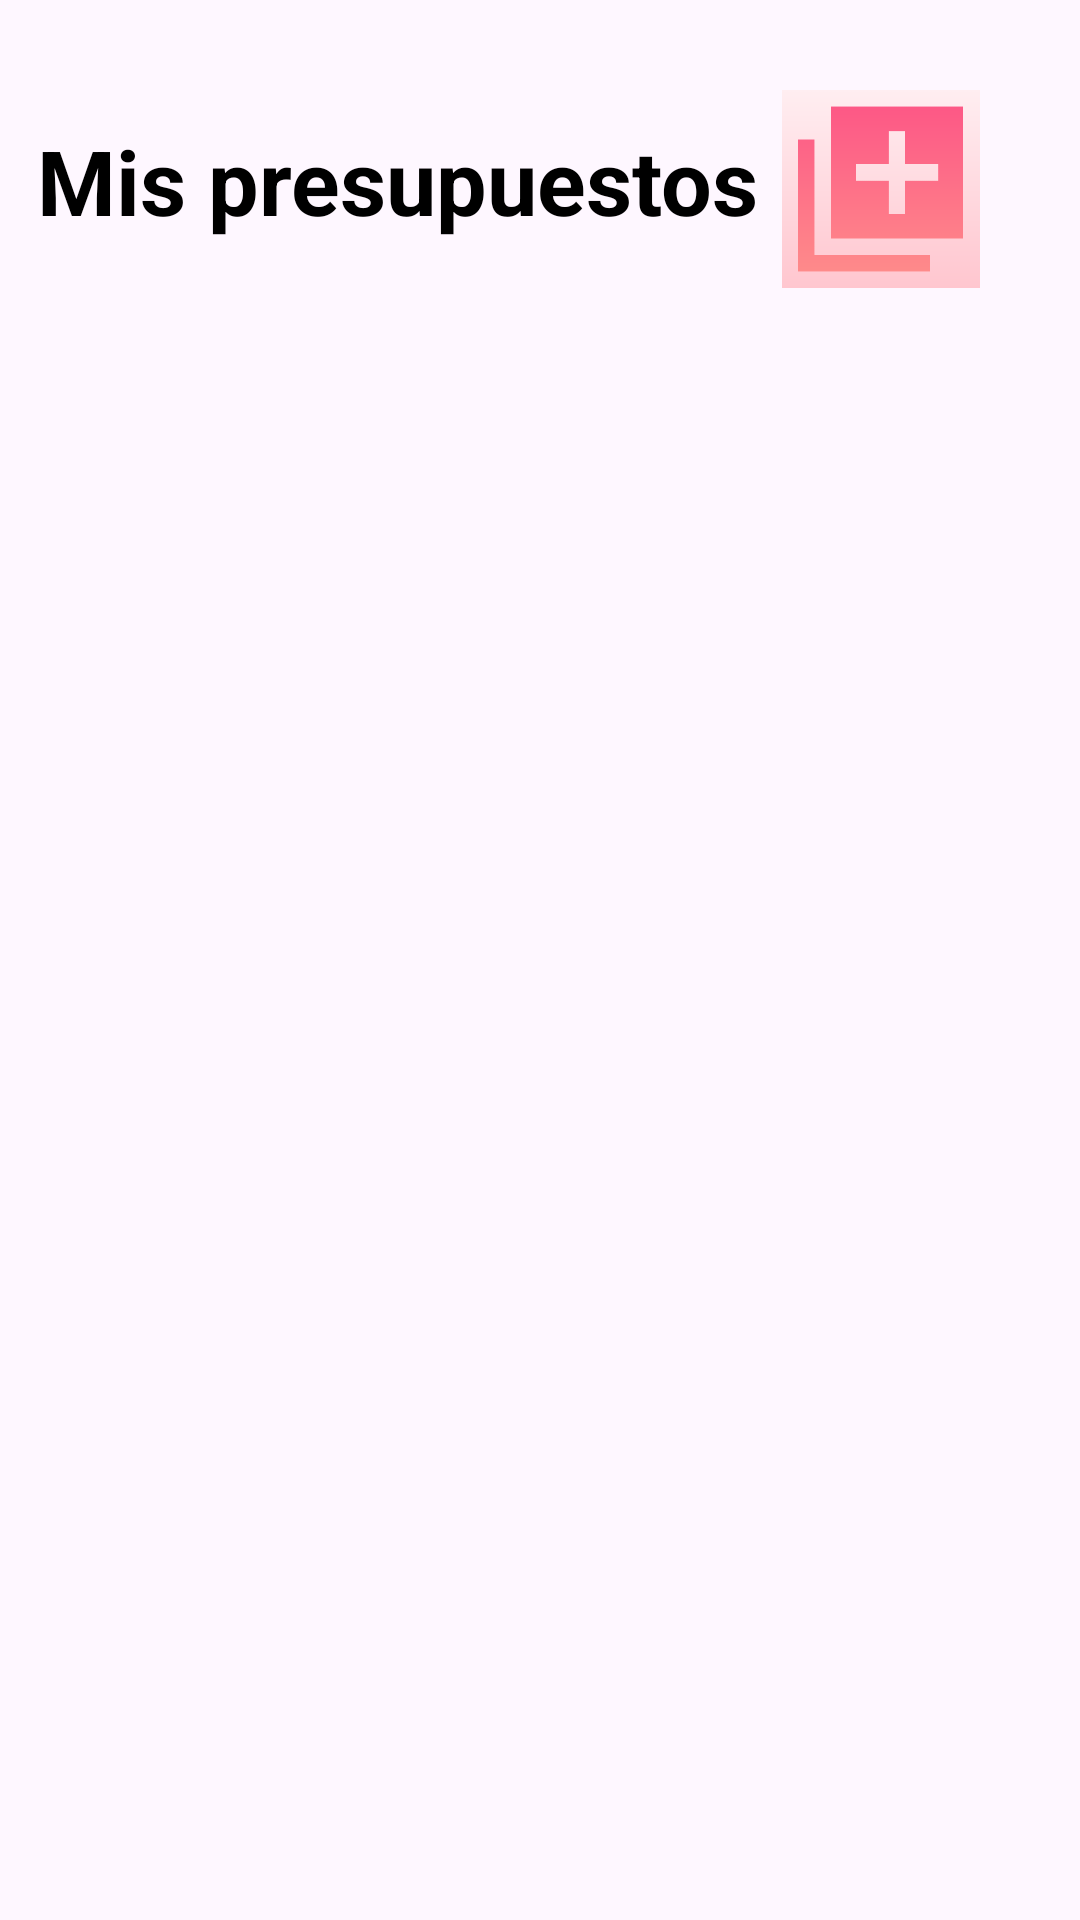

Icons on this 1080×1920 Android screen, each with its box as (x1, y1, x2, y2):
agregar: (782, 106, 980, 288)
